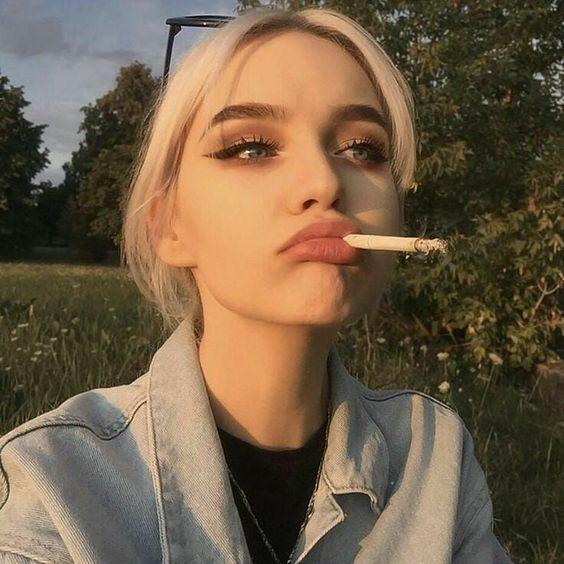cigarette: (341, 234, 448, 254)
